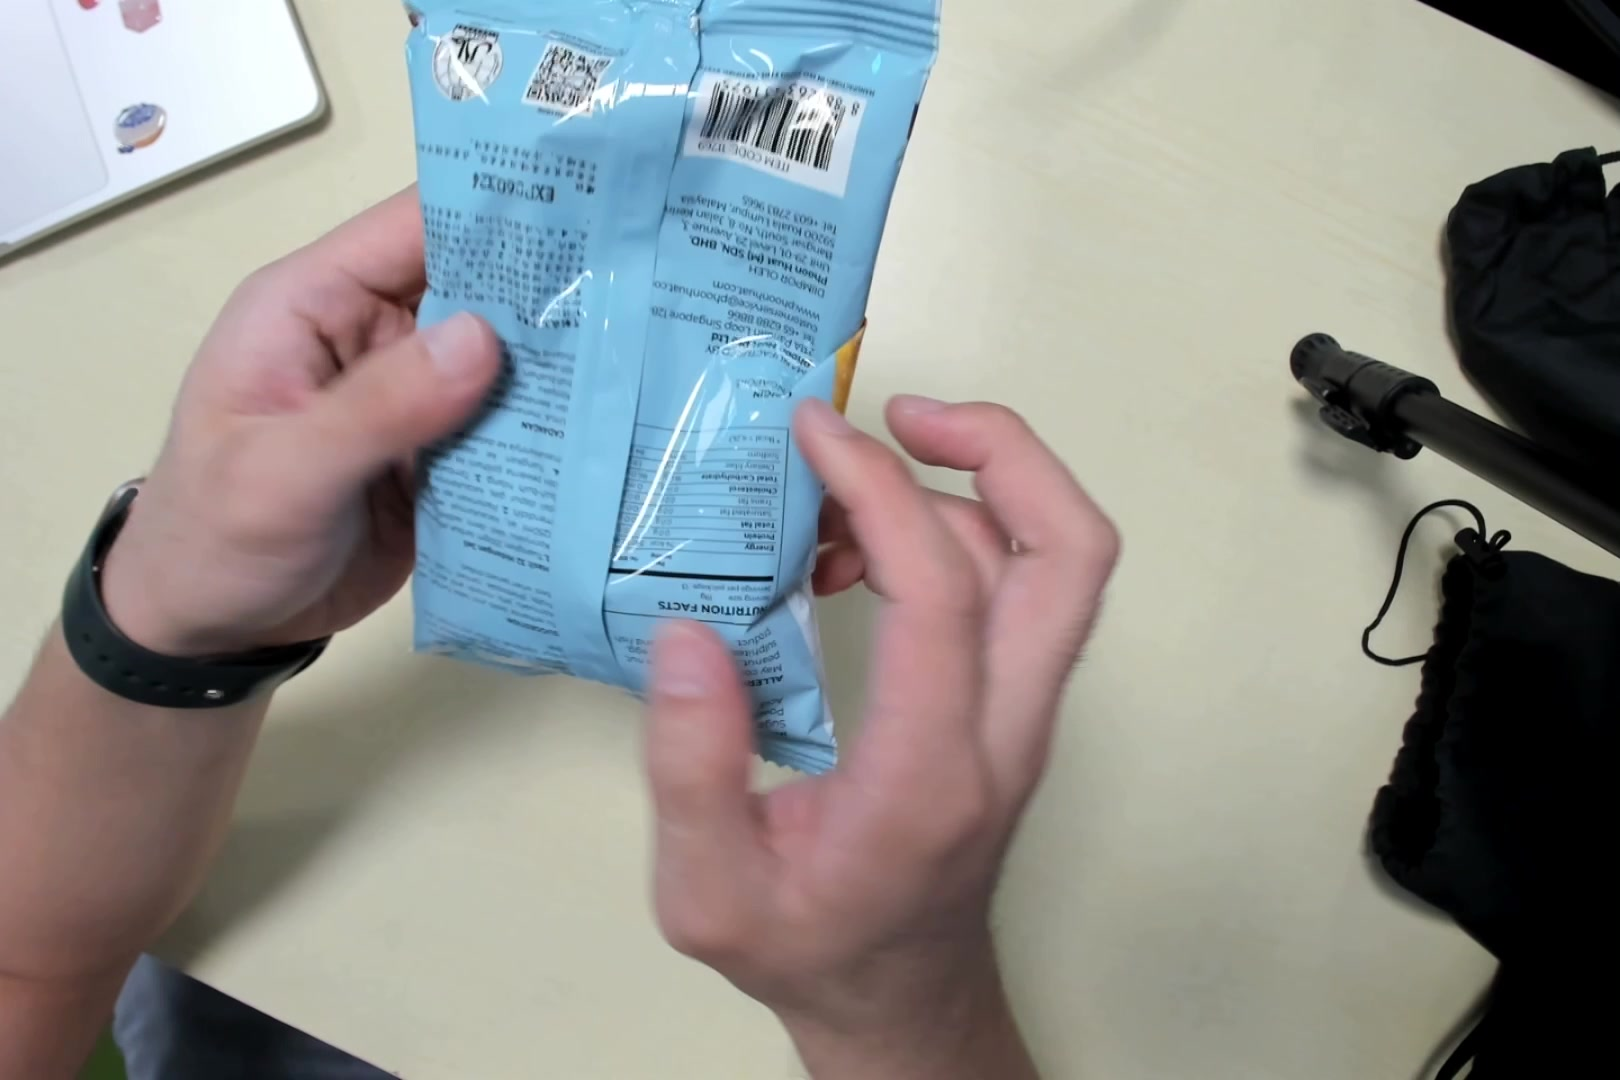OtherBakingNeeds_200-299g_Halal_NonHealthy: (411, 1, 932, 767)
